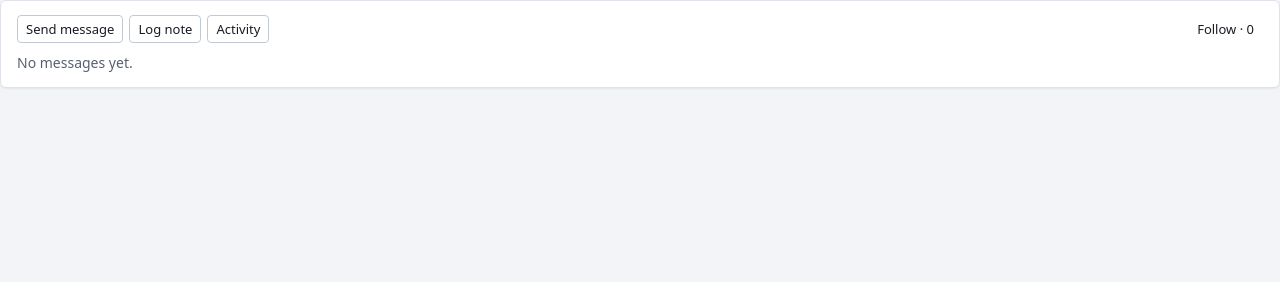
AI client › reports a stream error with a manual-path message and keeps the composer usable
Click the button "Send message" at (70, 29), box [17,15,124,43]
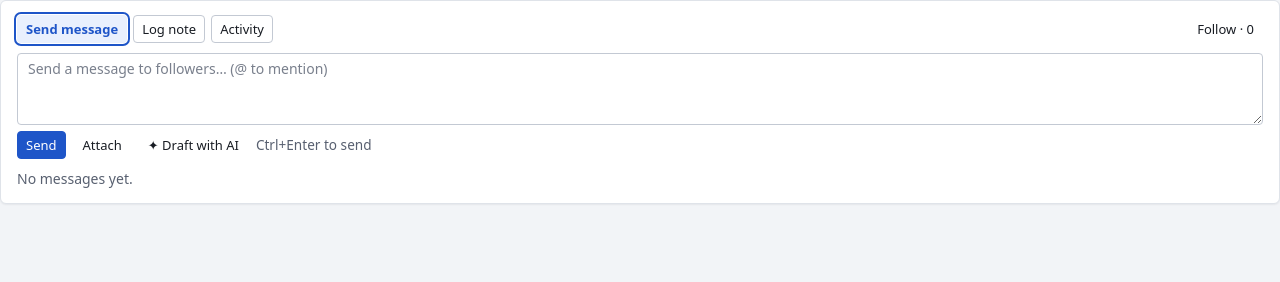
Click the button "✦ Draft with AI" at (193, 145), box [139,131,248,159]
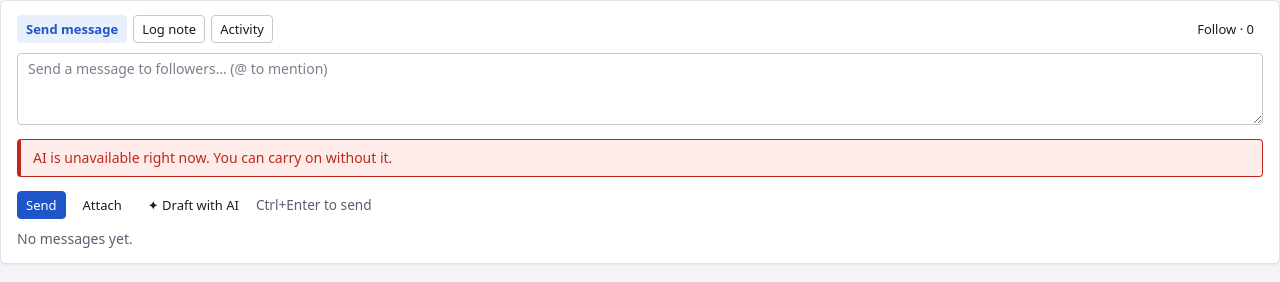
Now the text box labelled "message to followers" is enabled, box [17,53,1263,125]
Now the text "AI is unavailable right now. You can carry on without it." is shown, box [17,139,1263,177]
